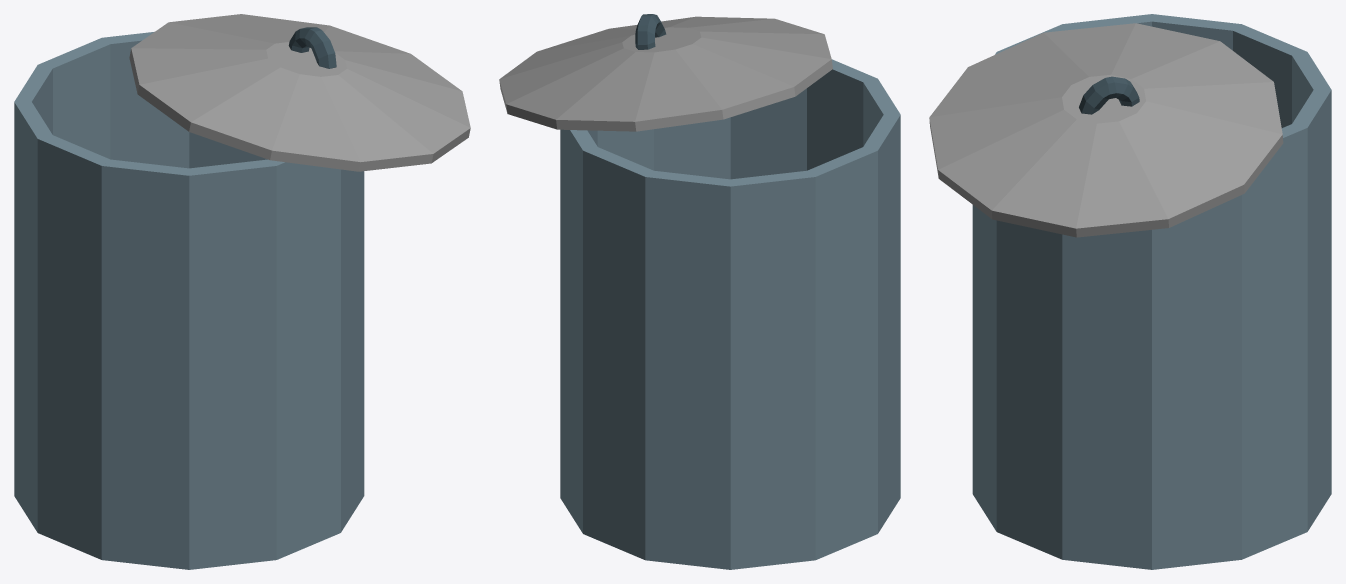
3 views of the same model, side by side, from view 1: azimuth 30°, elevation 25°; view 2: azimuth 150°, elevation 25°; view 3: azimuth 270°, elevation 25° (orthographic). The views are drawn at different scales.
Visible parts, largest first — view 1: mesh_731688577, mesh_1059824697, group_1855157258; view 2: mesh_731688577, mesh_1059824697, group_1855157258; view 3: mesh_731688577, mesh_1059824697, group_1855157258.
Part boxes in pixels (box(x1,y1,x2,y2)): mesh_731688577: box(14, 31, 364, 569); mesh_1059824697: box(129, 14, 470, 171); group_1855157258: box(288, 27, 336, 68); mesh_731688577: box(560, 59, 900, 569); mesh_1059824697: box(499, 16, 832, 131); group_1855157258: box(635, 14, 666, 49); mesh_731688577: box(972, 14, 1331, 569); mesh_1059824697: box(929, 23, 1283, 237); group_1855157258: box(1079, 76, 1139, 114).
Bounding box in the file's own units: 42.22 × 47.48 × 36.98.
